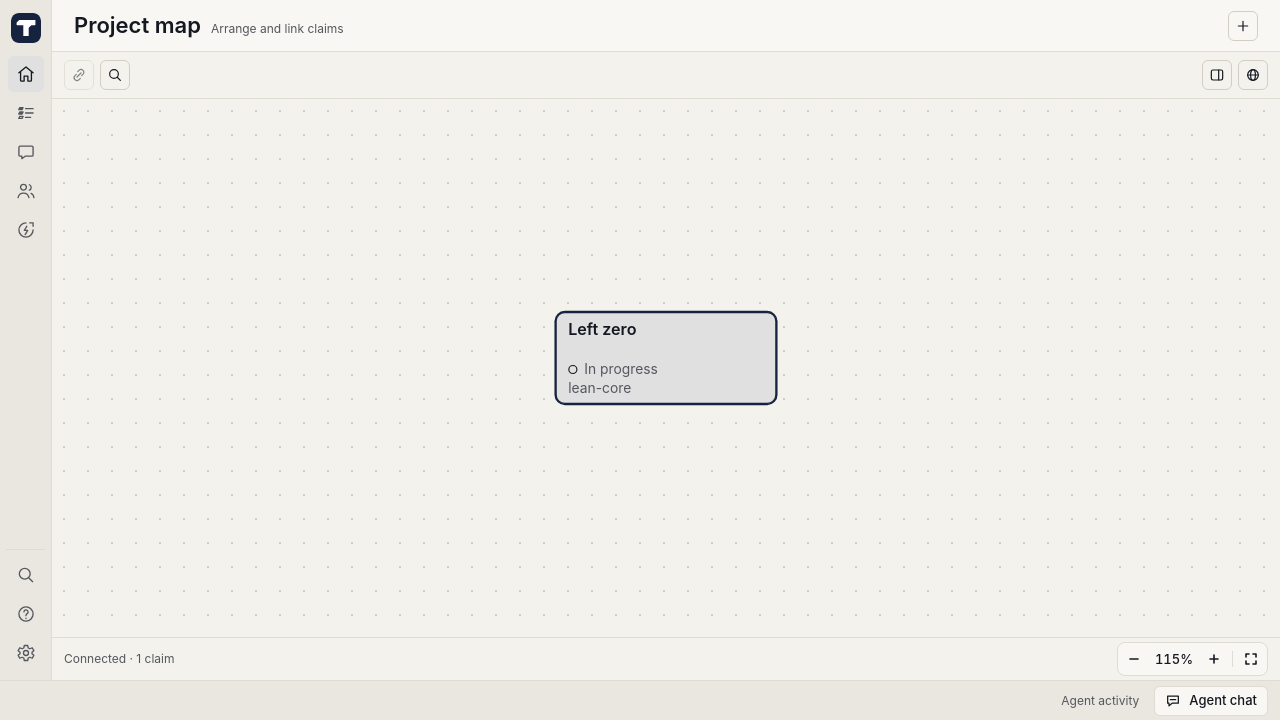
Test case: App › asks once to allow Codex for imports and then sends without a preview
Click the button named "Add to project" at (1243, 26), box [1228,10,1258,40]
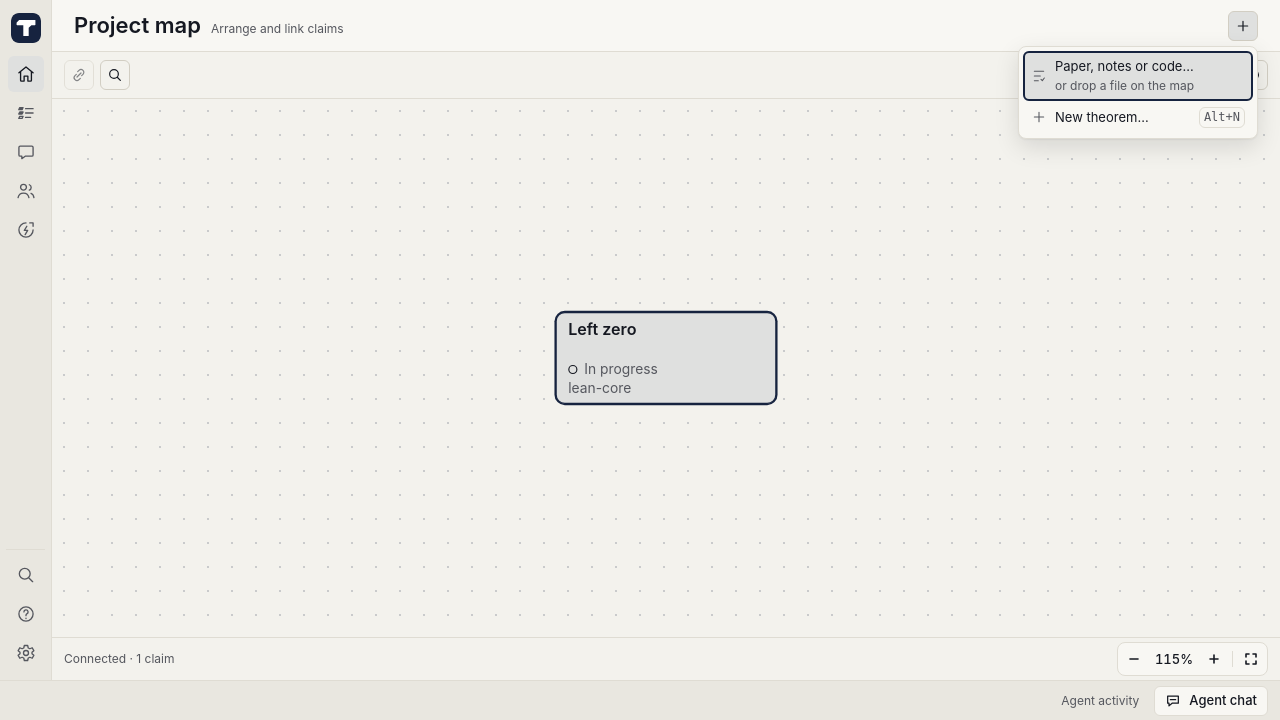
Click the menu item "Paper, notes or code…" at (1138, 76), box [1023,50,1253,101]
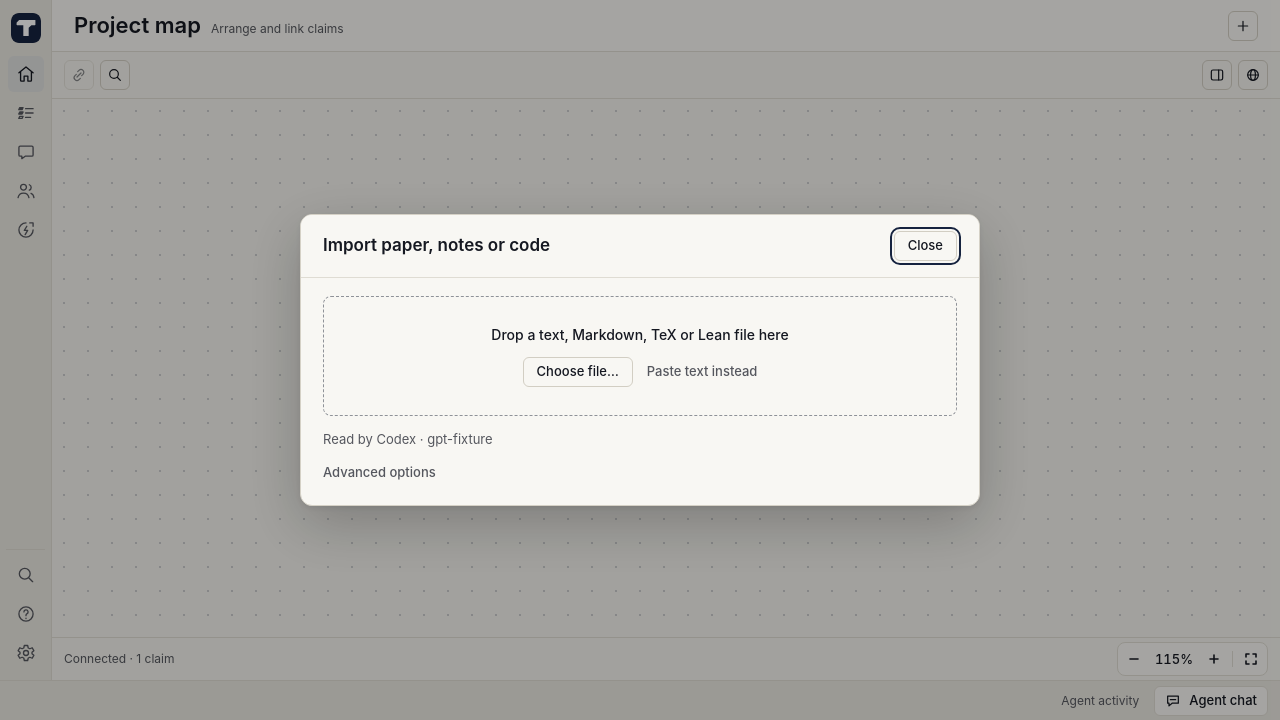
Click the button "Paste text instead" at (702, 372), box [647,362,757,381]
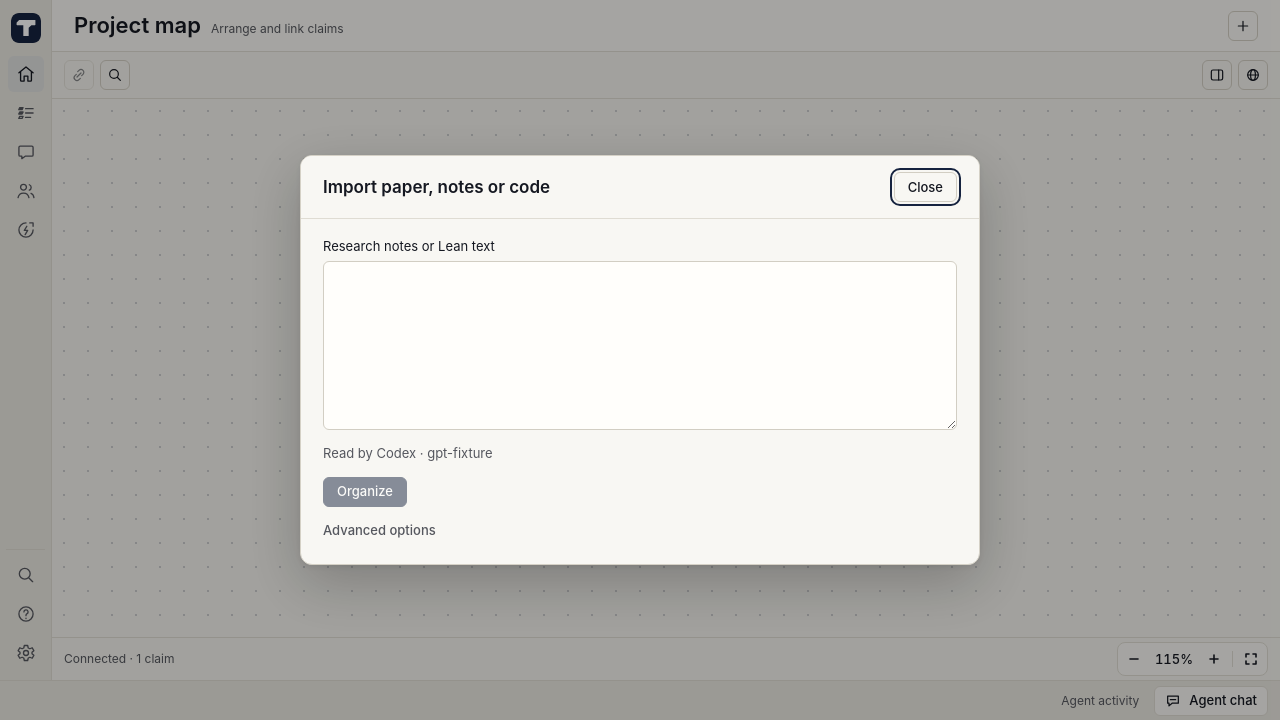
Type "Addition of natural numbers is commutative." into the text box labelled "Research notes or Lean text" at (640, 346), box [323,261,957,430]
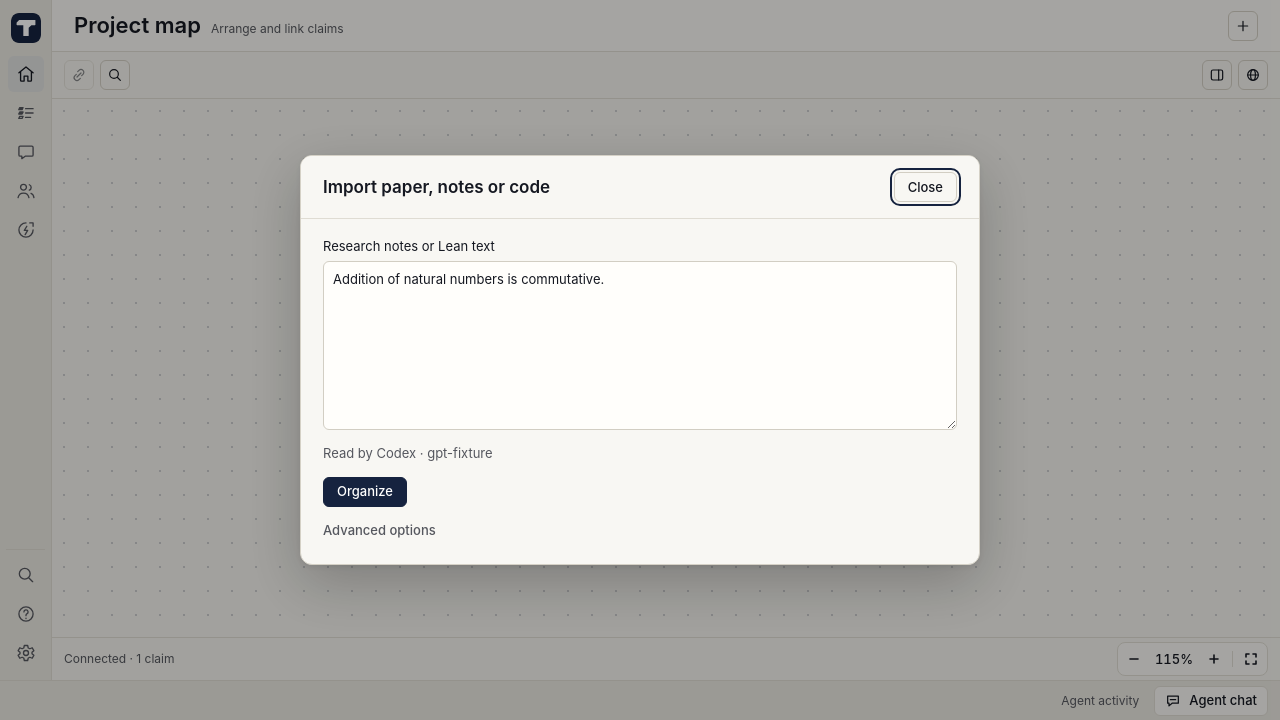
Click the button "Organize" at (365, 492), box [323,477,407,507]
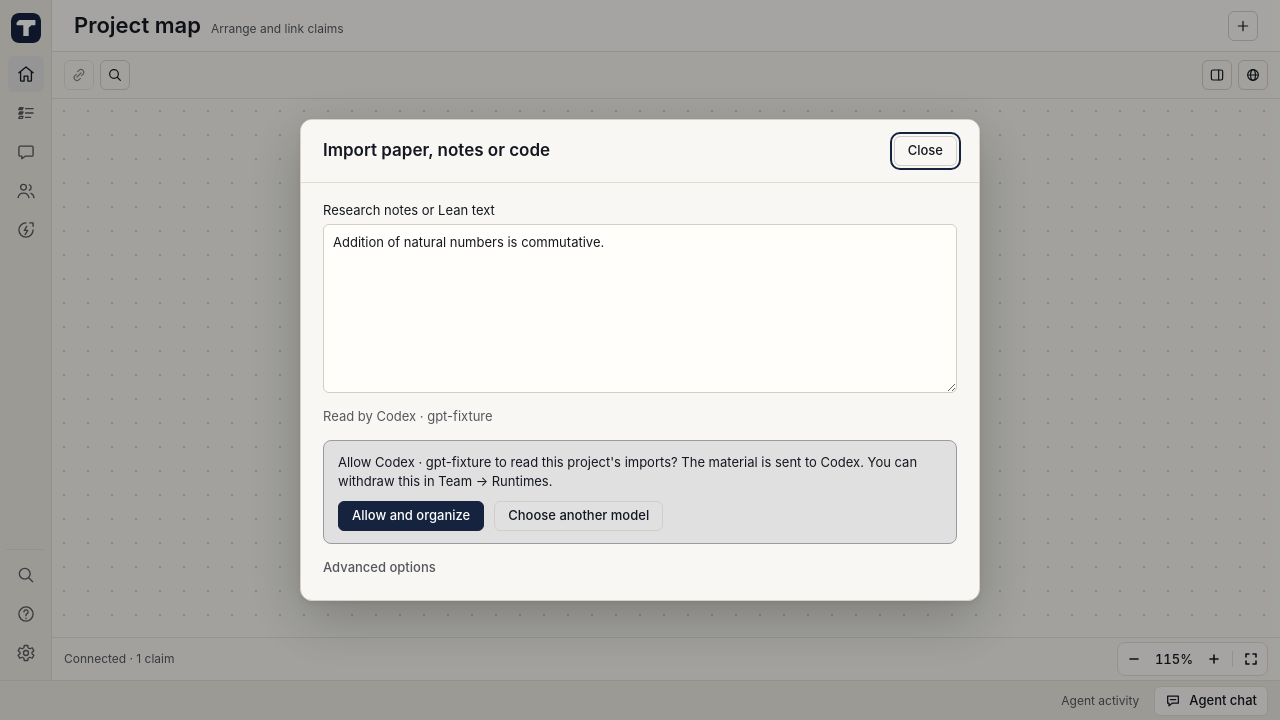
Click the button "Allow and organize" at (411, 516), box [338,501,484,531]
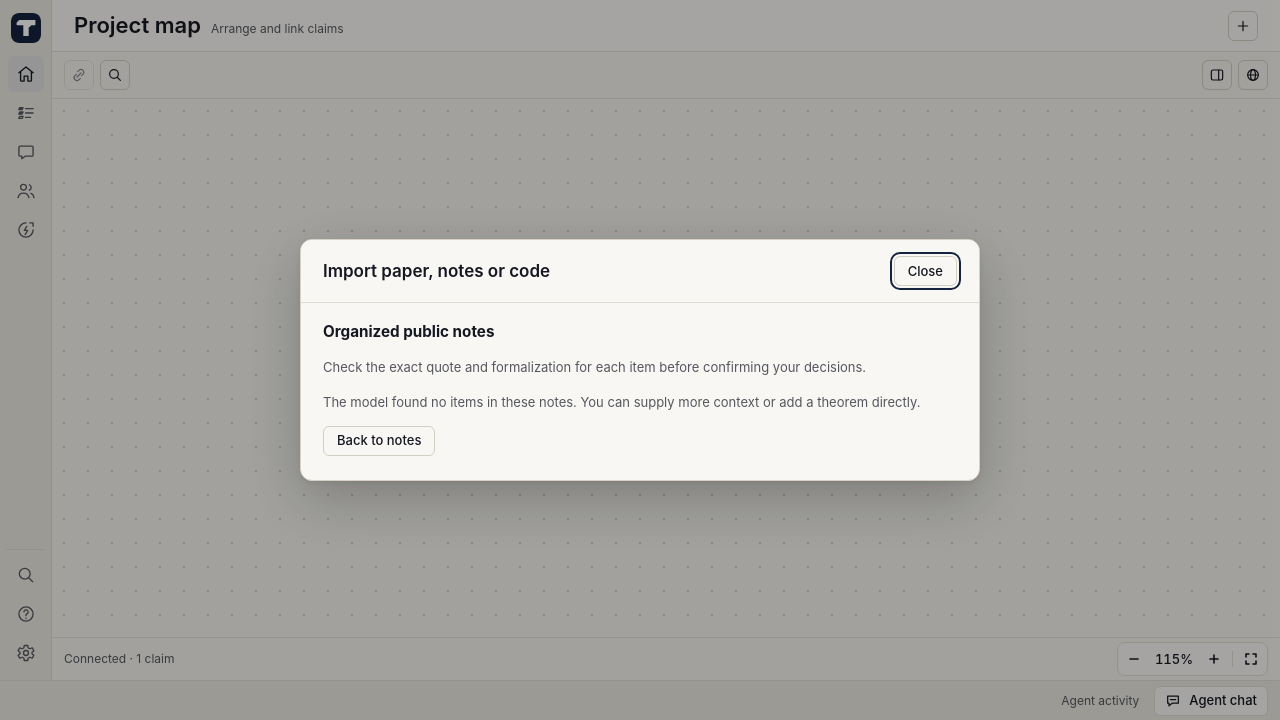
Expected: the heading "Organized public notes" is shown, [323,322,494,341]
